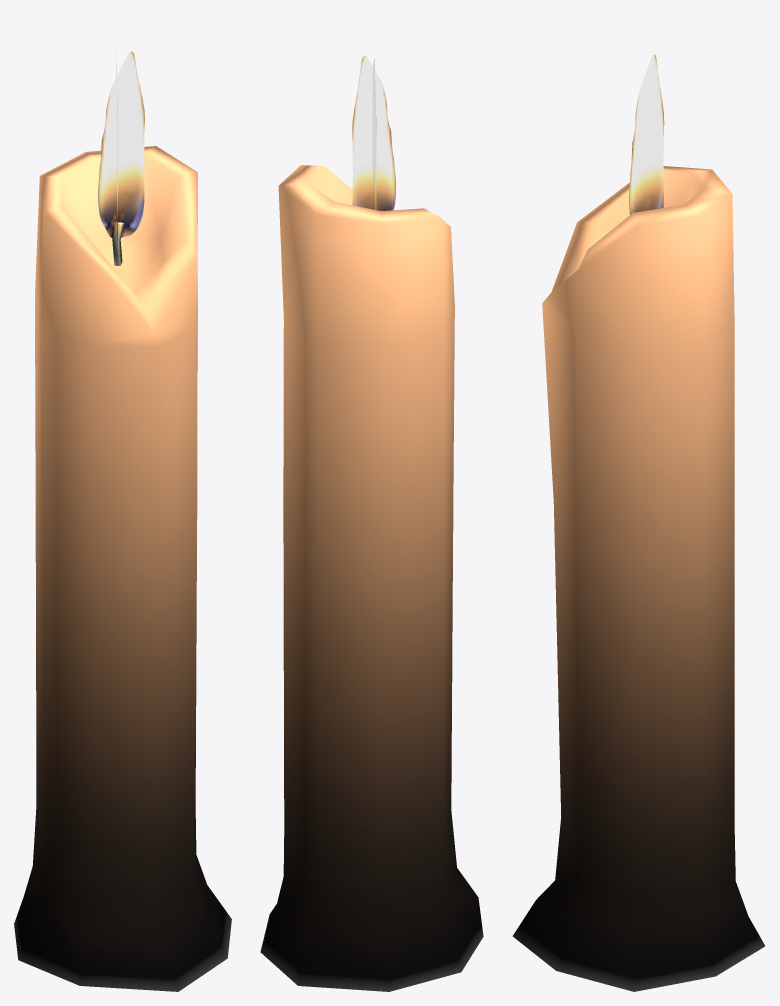
File: CandleShapeA.032.glb
The picture shows the model from 3 angles, left to right: view 1: azimuth 30°, elevation 25°; view 2: azimuth 150°, elevation 25°; view 3: azimuth 270°, elevation 25°; orthographic projection.
Parts seen in each view (by area): view 1: CandleShapeA.032; view 2: CandleShapeA.032; view 3: CandleShapeA.032.
Part boxes in pixels (x1=…): CandleShapeA.032: x1=14, y1=51, x2=231, y2=991; CandleShapeA.032: x1=260, y1=56, x2=483, y2=991; CandleShapeA.032: x1=512, y1=54, x2=764, y2=991.
Bounding box in the file's own units: 0.0814 × 0.3472 × 0.0887.
2 materials, 2 textured.
